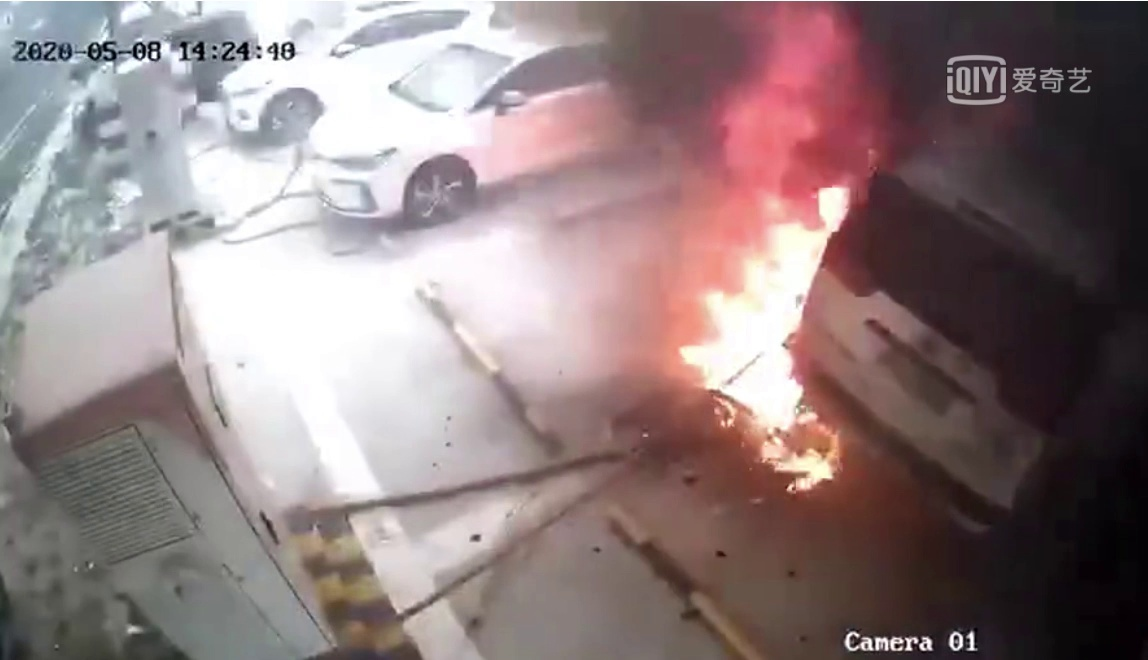fire: (703, 155, 848, 456)
